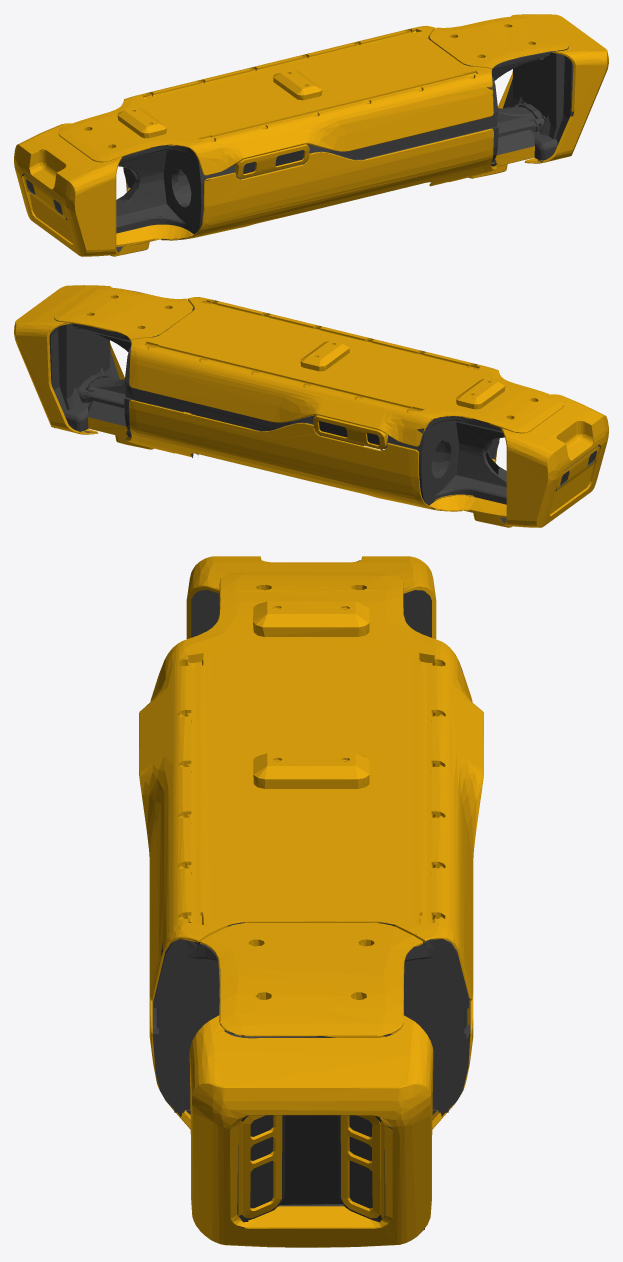
File: body.dae
The picture shows the model from 3 angles, top to bottom: view 1: azimuth 30°, elevation 25°; view 2: azimuth 150°, elevation 25°; view 3: azimuth 270°, elevation 25°; orthographic projection. The views are drawn at different scales.
Visible parts, largest first — view 1: body; view 2: body; view 3: body.
Part boxes in pixels (x1=…): body: x1=14, y1=14, x2=608, y2=256; body: x1=14, y1=285, x2=608, y2=527; body: x1=139, y1=556, x2=483, y2=1247.
Size of the model in its own units: 0.8724 by 0.2392 by 0.1947.
1 material, 1 textured.
